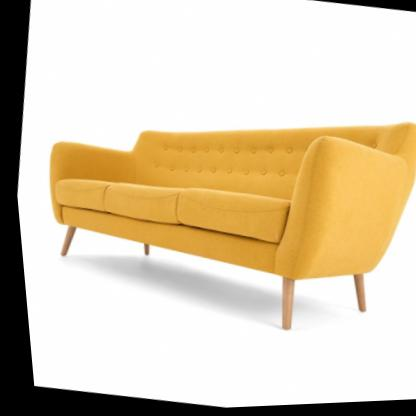Sofa: (16, 67, 416, 358)
